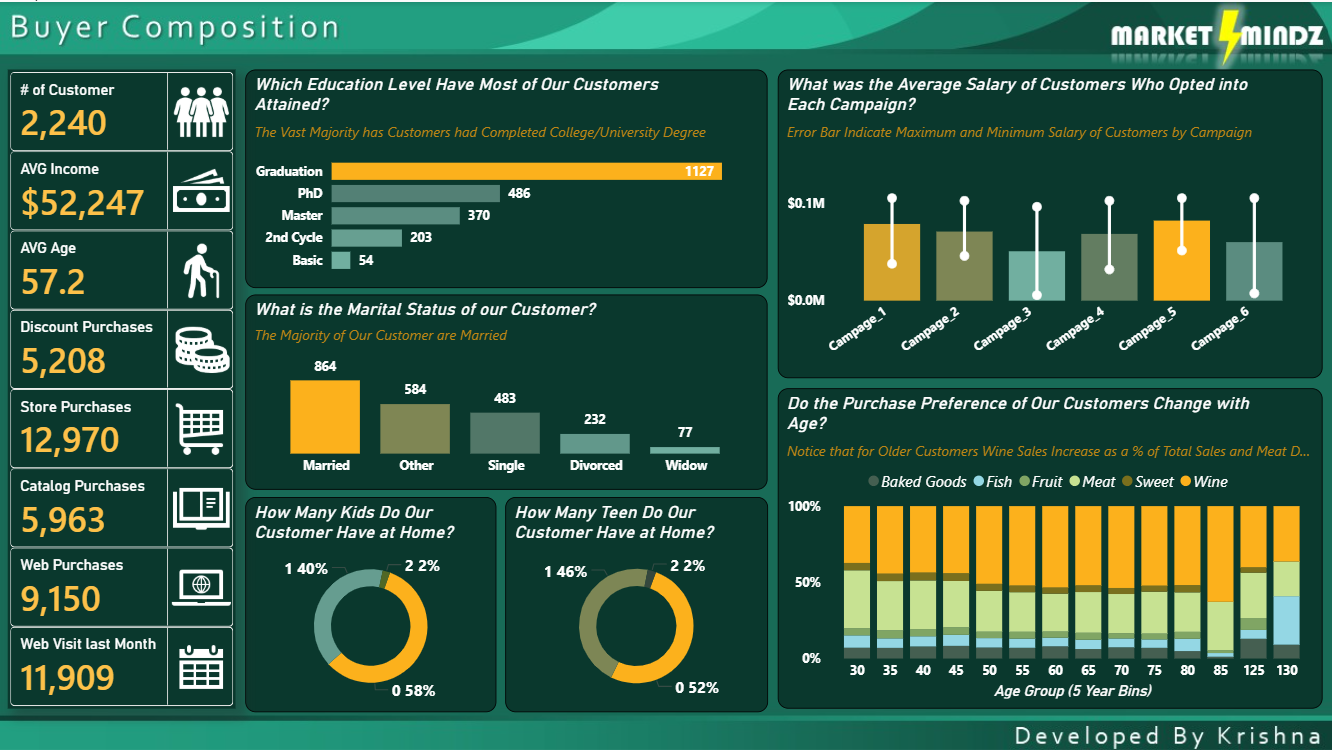

This screenshot's page, from the dashboard's own definition file:
{"tool":"powerbi","page":{"name":"Buyer Compostion","canvas":[1280,720],"ordinal":1},"visuals":[{"type":"clusteredBarChart","title":"Which Education Level Have Most of Our Customers Attained?","fields":{"Category":["marketmindz_research_data.Education"],"Y":["CountNonNull(marketmindz_research_data.ID)"]},"box":[235.8,64.7,501,209.7],"z":0},{"type":"columnChart","title":"What is the Marital Status of our Customer?","fields":{"Y":["CountNonNull(marketmindz_research_data.ID)"],"Category":["marketmindz_research_data.Marital_Status"]},"box":[236.1,280.4,501,187],"z":1000},{"type":"donutChart","title":"How Many Kids Do Our Customer Have at Home?","fields":{"Y":["CountNonNull(marketmindz_research_data.ID)"],"Category":["marketmindz_research_data.Kidhome"]},"box":[236.1,474.8,240.9,206.1],"z":2000},{"type":"donutChart","title":"How Many Teen Do Our Customer Have at Home?","fields":{"Y":["CountNonNull(marketmindz_research_data.ID)"],"Category":["marketmindz_research_data.Teenhome"]},"box":[485.4,474.8,251.7,206.1],"z":3000},{"type":"clusteredColumnChart","title":"What was the Average Salary of Customers Who Opted into Each Campaign?","fields":{"Category":["Campagn.Campage"],"Y":["Avg(marketmindz_research_data. Income )"]},"box":[746.7,64.7,522.5,296],"z":4000},{"type":"hundredPercentStackedColumnChart","title":"Do the Purchase Preference of Our Customers Change with Age?","fields":{"Y":["Sum(Products.Total_ Sales)"],"Series":["Products.Products"],"Category":["marketmindz_research_data.Age Group"]},"box":[746.7,370.3,522.5,306.8],"z":5000},{"type":"cardVisual","fields":{"Data":["CountNonNull(marketmindz_research_data.ID)","Avg(marketmindz_research_data. Income )","Avg(marketmindz_research_data.Age)","Sum(marketmindz_research_data.Purchases_Deal)","Sum(marketmindz_research_data.Purchases_Store)","Sum(marketmindz_research_data.Purchases_Catalog)","Sum(marketmindz_research_data.Purchases_Wed)","Sum(marketmindz_research_data.Web_Visit_last_month)"]},"box":[8.4,64.7,218.1,612.4],"z":6000}]}

Visuals, with their boxes in screenshot pixels (x1, y1, x2, y2), scaled from the page's 1280x720 canvas onto the 1332x750 screenshot:
"Which Education Level Have Most of Our Customers Attained?" clusteredBarChart: (245,67,767,286)
"What is the Marital Status of our Customer?" columnChart: (246,292,767,487)
"How Many Kids Do Our Customer Have at Home?" donutChart: (246,495,496,709)
"How Many Teen Do Our Customer Have at Home?" donutChart: (505,495,767,709)
"What was the Average Salary of Customers Who Opted into Each Campaign?" clusteredColumnChart: (777,67,1321,376)
"Do the Purchase Preference of Our Customers Change with Age?" hundredPercentStackedColumnChart: (777,386,1321,705)
cardVisual - CountNonNull(marketmindz_research_data.ID) x Avg(marketmindz_research_data. Income ): (9,67,236,705)
